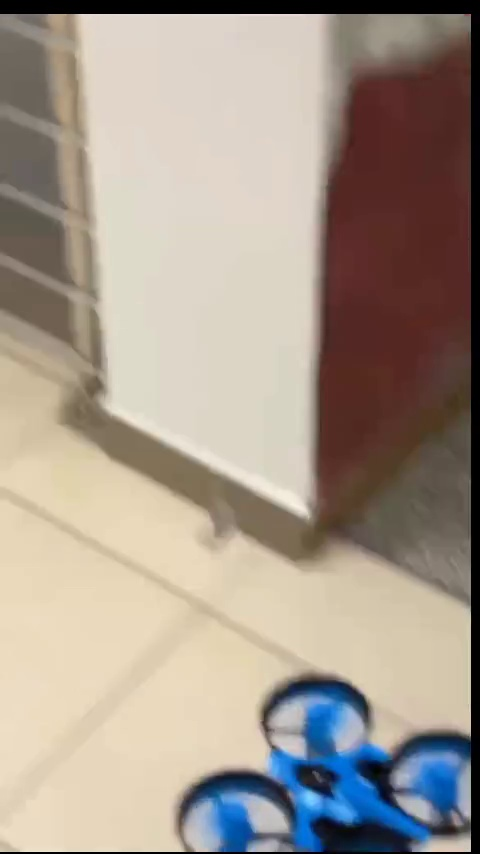drone: (170, 680, 471, 848)
